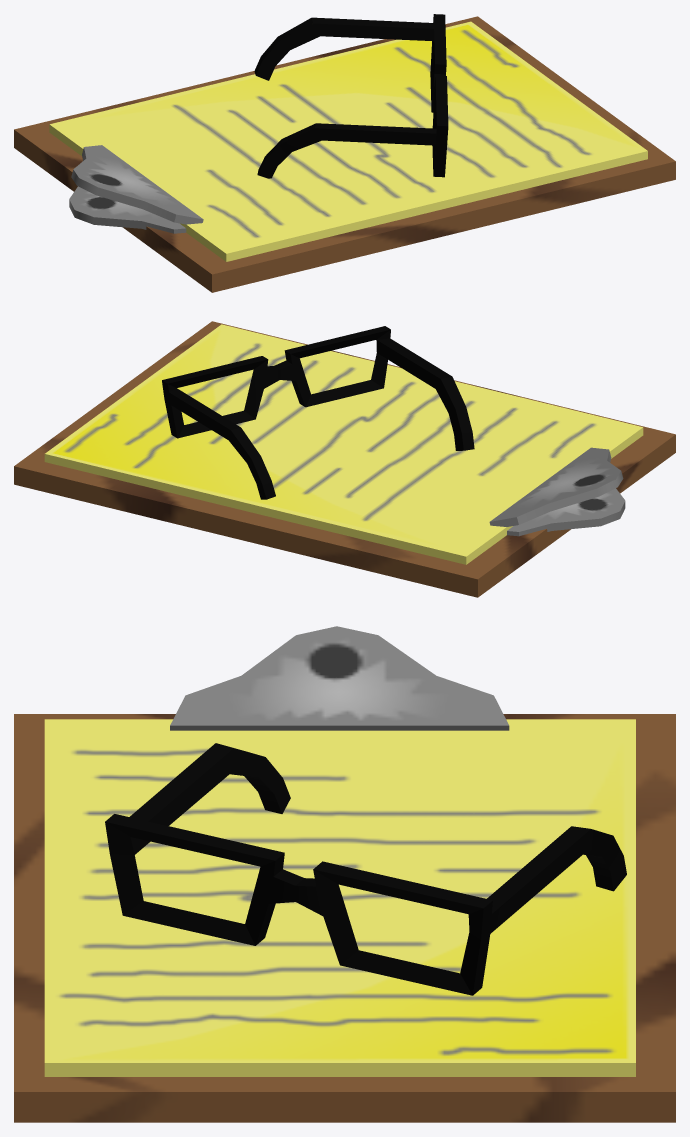
File: clipBoardGlasses.fbx
3 views of the same model, one above another, from view 1: azimuth 30°, elevation 25°; view 2: azimuth 150°, elevation 25°; view 3: azimuth 270°, elevation 25° (orthographic). The views are drawn at different scales.
Visible parts, largest first — view 1: polySurface1; view 2: polySurface1; view 3: polySurface1.
Part boxes in pixels (x1,y1,x2,y2): polySurface1: [14, 14, 675, 292]; polySurface1: [14, 321, 675, 597]; polySurface1: [14, 626, 675, 1122].
Size of the model in its own units: 13.14 by 2.11 by 8.94.
